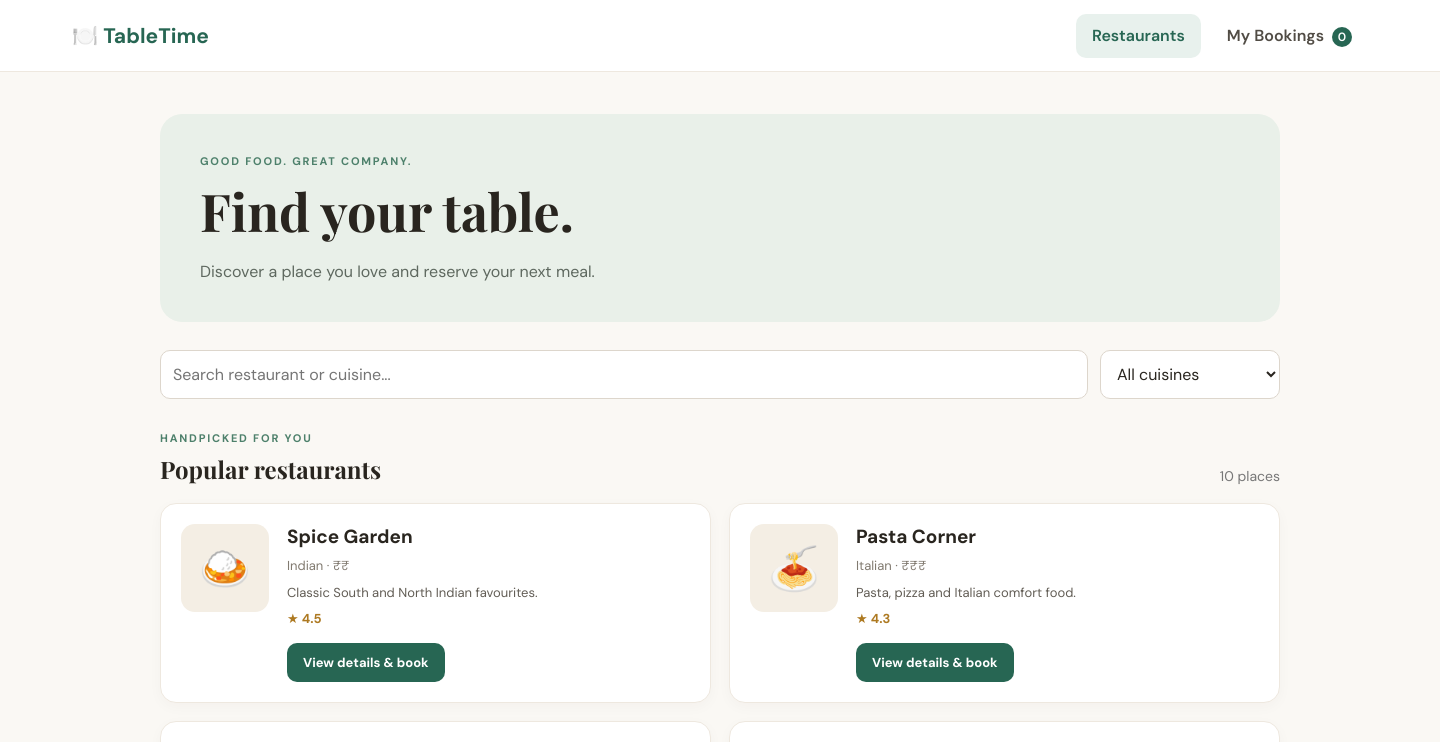
Test: Restaurant Reservation Components › opens restaurant details
Click the button "View details & book" below "Spice Garden": (366, 662) [287,642,445,682]
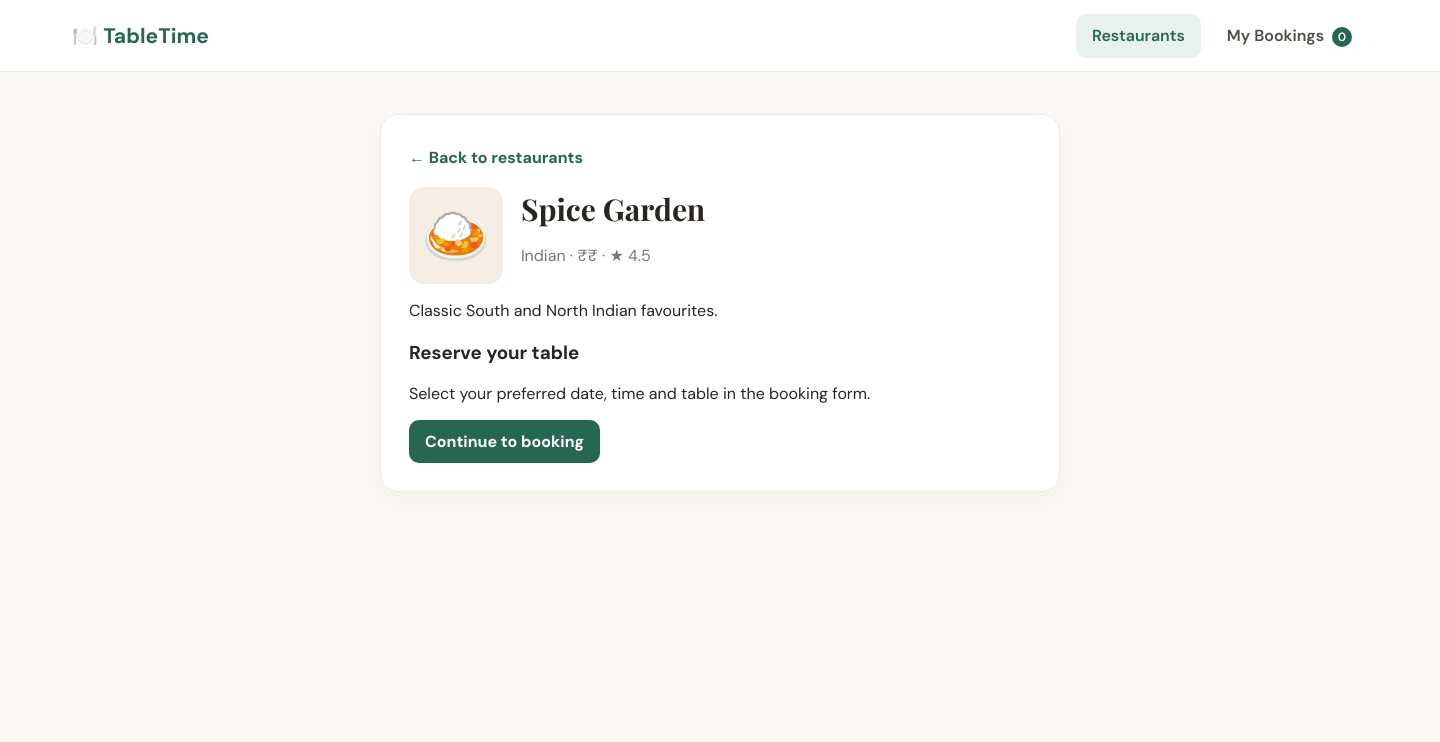
Expected: the heading "Reserve your table" is shown, [409,340,579,365]
Expected: the button "Continue to booking" is shown, [409,420,600,463]
